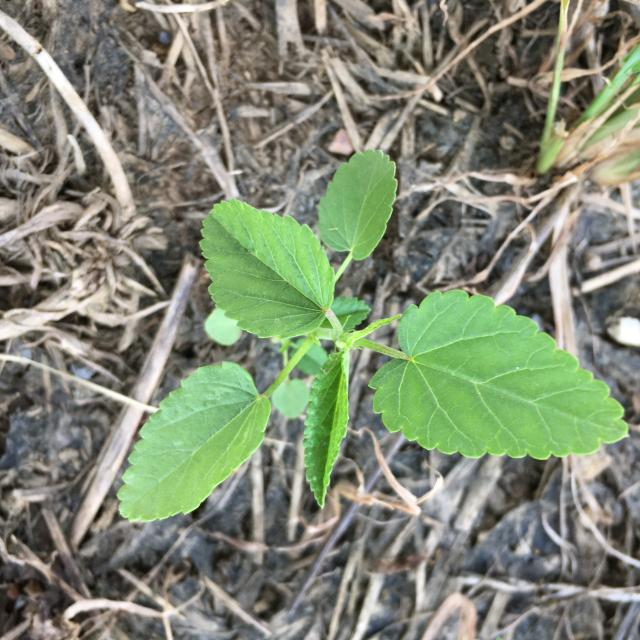PricklySida: (117, 150, 629, 524)
